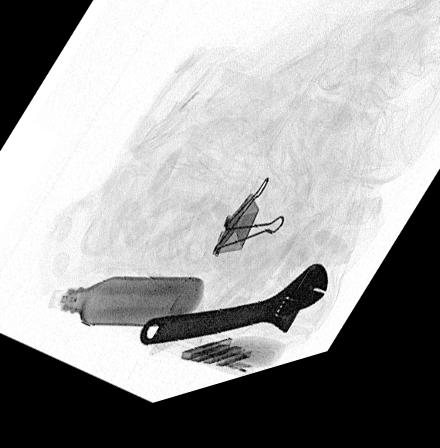Wrench: (137, 281, 329, 353)
